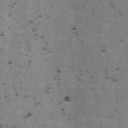oxide scale of temperature system: (0, 50, 120, 128), (29, 14, 52, 54), (0, 13, 12, 36), (110, 2, 123, 16), (70, 26, 78, 36), (7, 61, 13, 64), (120, 39, 124, 43), (28, 60, 32, 64)
